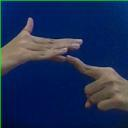hand: (1, 16, 83, 76), (64, 53, 127, 114)
